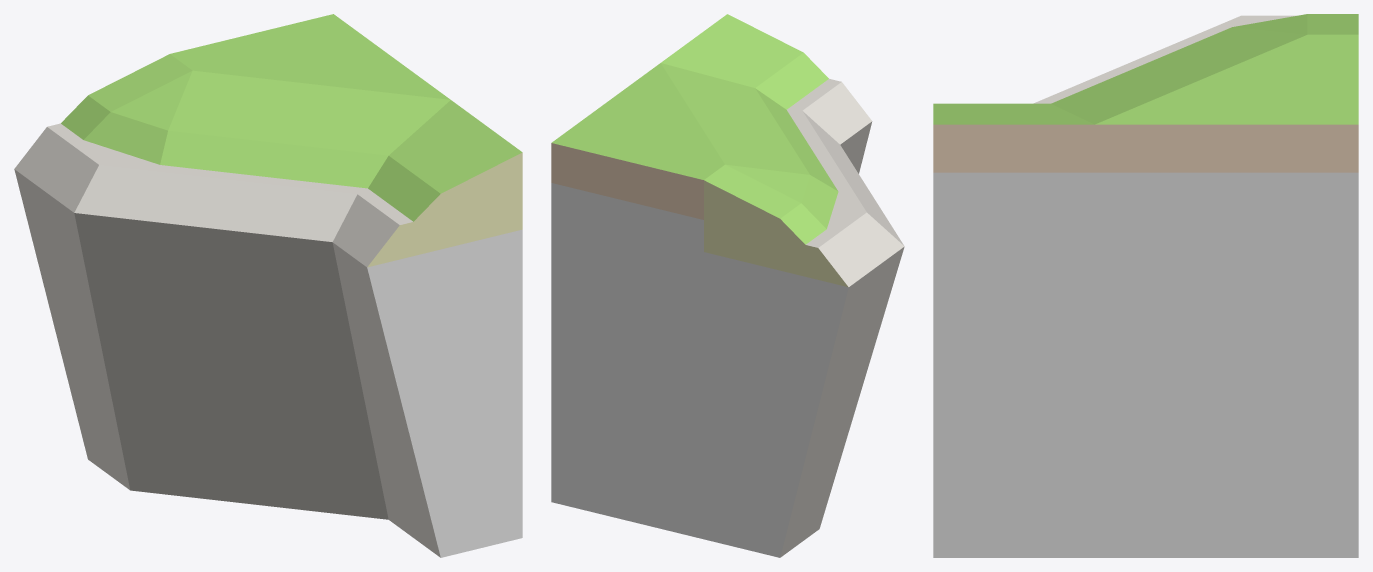
The model's file is Basic_Esse_Top_2x2.glb.
3 views of the same model, side by side, from view 1: azimuth 30°, elevation 25°; view 2: azimuth 150°, elevation 25°; view 3: azimuth 270°, elevation 25° (orthographic). The views are drawn at different scales.
Visible parts, largest first — view 1: Basic_Esse_Top_2x2; view 2: Basic_Esse_Top_2x2; view 3: Basic_Esse_Top_2x2.
Boxes of the visible parts, x1,y1,x2,y2 form: Basic_Esse_Top_2x2: (14, 14, 522, 557); Basic_Esse_Top_2x2: (551, 14, 904, 557); Basic_Esse_Top_2x2: (933, 14, 1358, 557).
Size of the model in its own units: 195 by 225 by 200.
